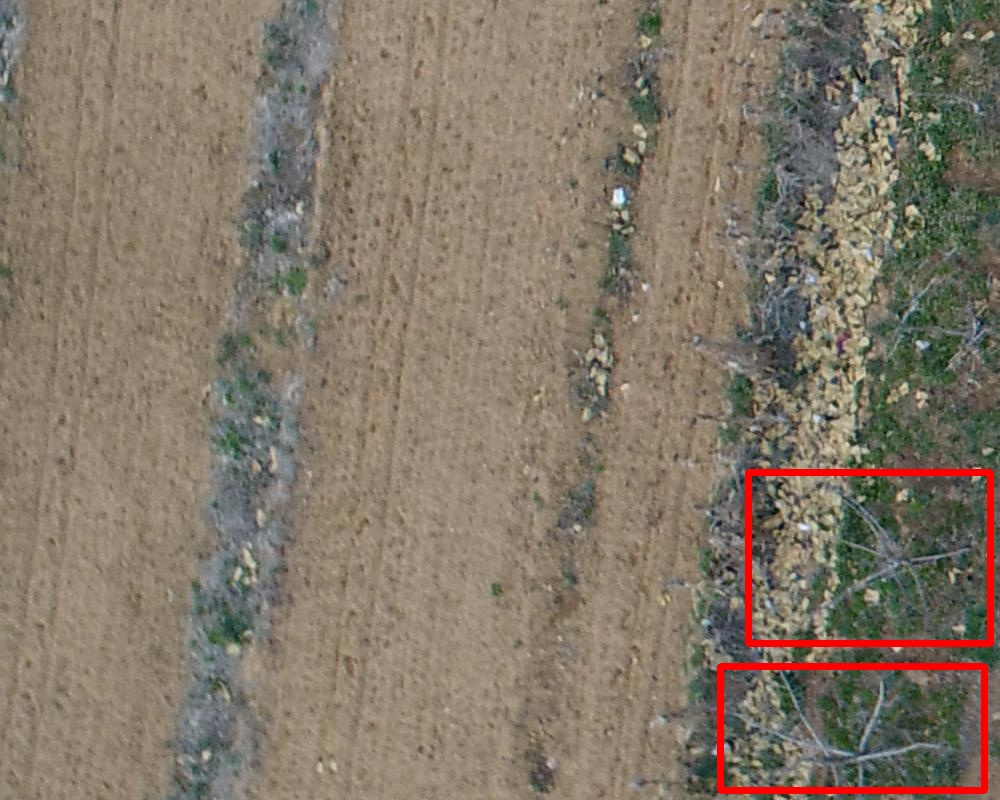apple: (748, 472, 990, 643), (720, 666, 984, 790)
